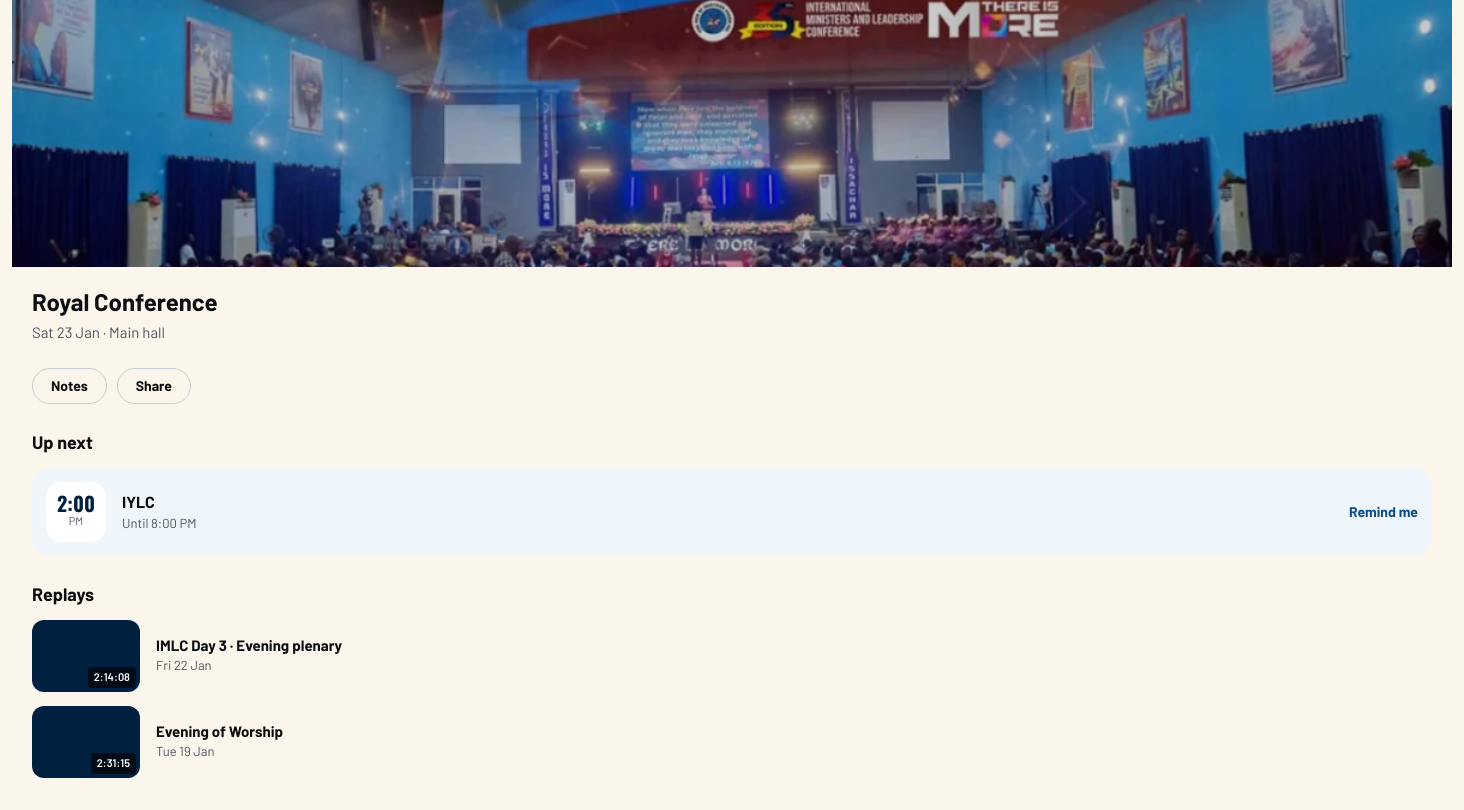
Test: Live (phone) › sets and clears a reminder for the next session
(page scrolled)
Click the button "Remind me" at (1384, 512), box [1349,502,1418,522]
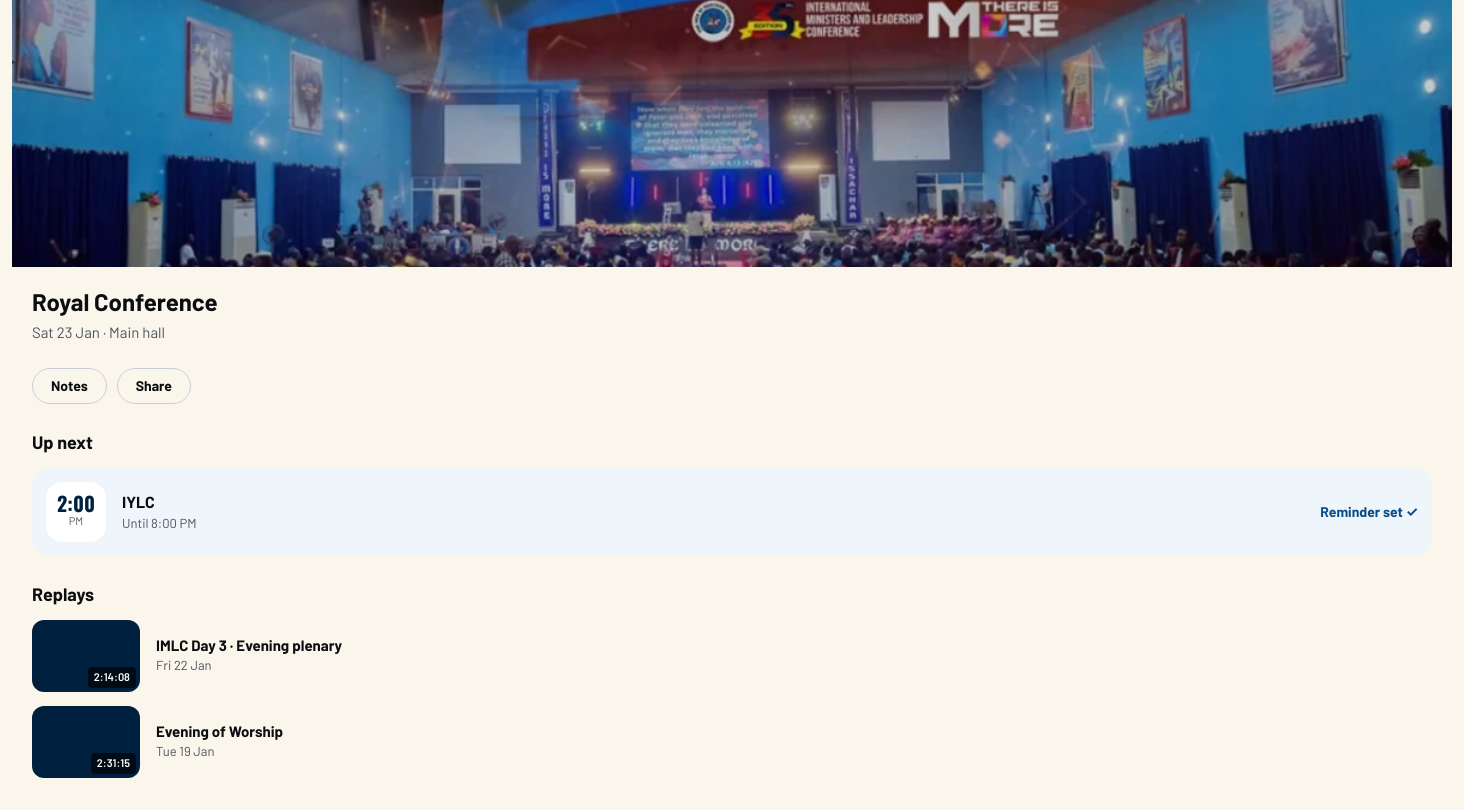
Expected: the button "Reminder set ✓" is shown
Click the button "Reminder set ✓" at (1369, 512), box [1320,502,1418,522]
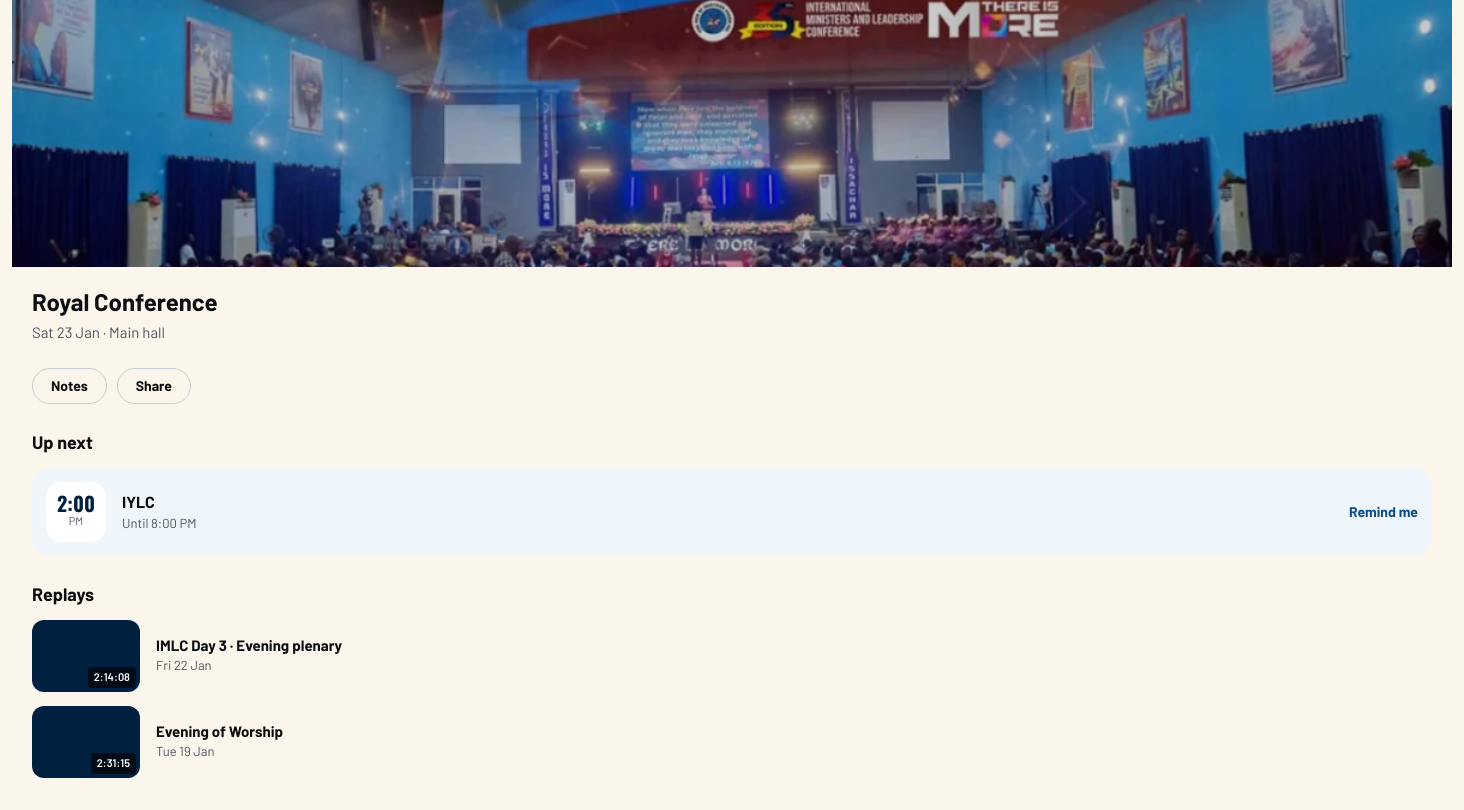
Expected: the button "Remind me" is shown, [1349,502,1418,522]
